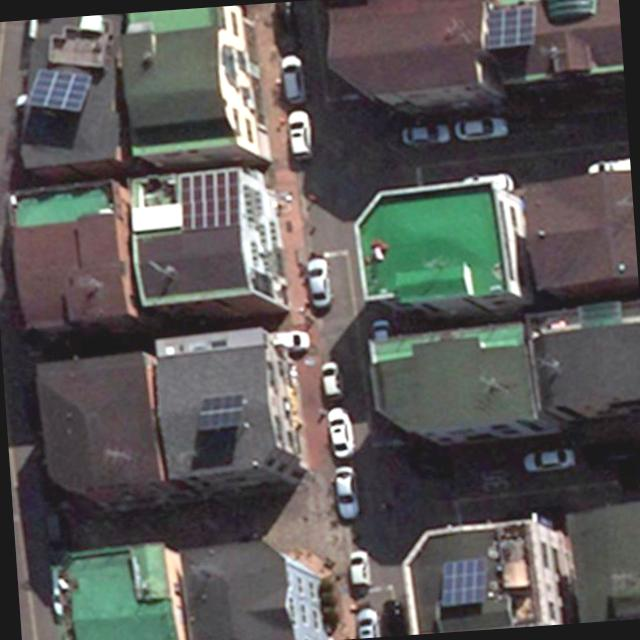solar: (174, 167, 242, 230), (21, 63, 97, 116), (480, 0, 538, 51), (437, 556, 489, 607), (192, 389, 248, 432)
